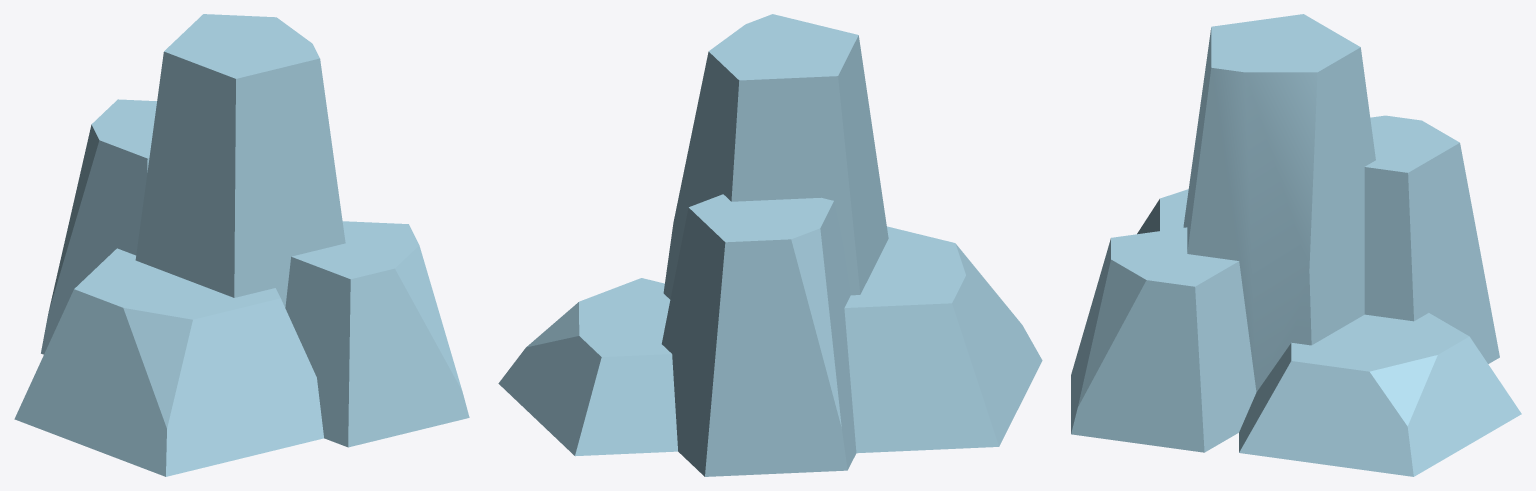
File: rockLarge.glb
The picture shows the model from 3 angles, left to right: view 1: azimuth 30°, elevation 25°; view 2: azimuth 150°, elevation 25°; view 3: azimuth 270°, elevation 25°; orthographic projection. The views are drawn at different scales.
Parts seen in each view (by area): view 1: rockLarge; view 2: rockLarge; view 3: rockLarge.
Boxes of the visible parts, x1,y1,x2,y2 form: rockLarge: (14,14,469,476); rockLarge: (498,14,1042,476); rockLarge: (1071,14,1521,476).
Size of the model in its own units: 4.79 by 3.49 by 4.35.
